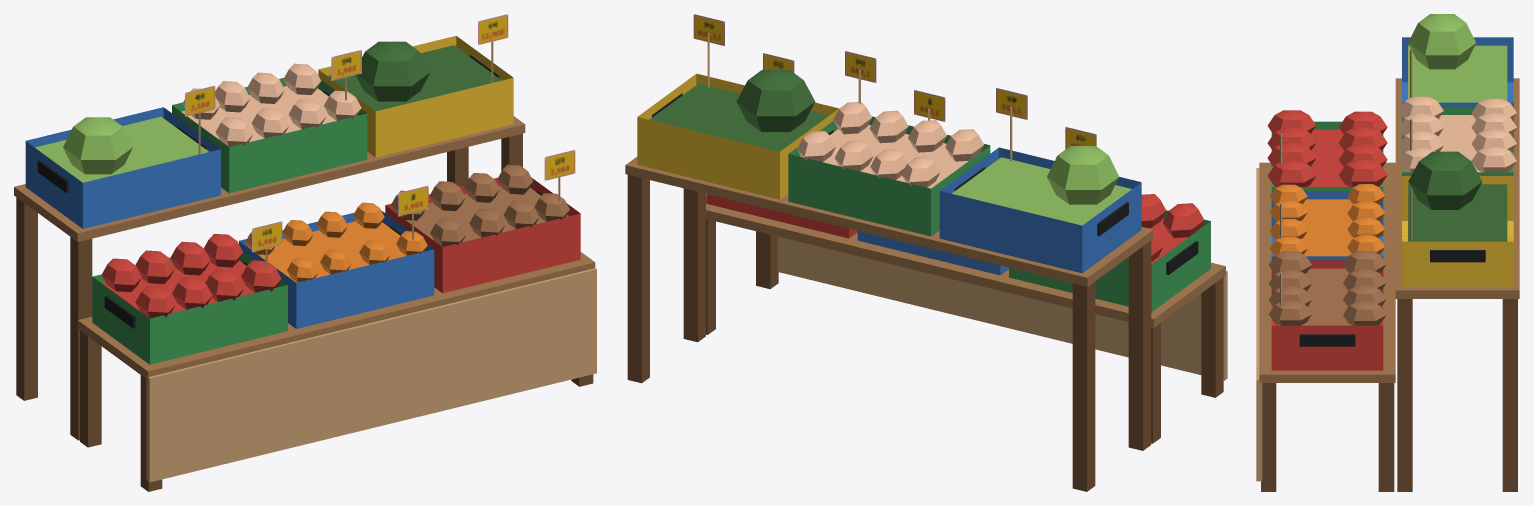
Rendered from SC_Shop_Produce_Stand.gltf.
3 renders of one model, left to right at view 1: azimuth 30°, elevation 25°; view 2: azimuth 150°, elevation 25°; view 3: azimuth 270°, elevation 25°, orthographic. The views are drawn at different scales.
Parts seen in each view (by area): view 1: SC_Shop_Produce_Stand; view 2: SC_Shop_Produce_Stand; view 3: SC_Shop_Produce_Stand.
Part boxes in pixels (box(x1,y1,x2,y2)): SC_Shop_Produce_Stand: box(14, 14, 596, 491); SC_Shop_Produce_Stand: box(625, 14, 1227, 491); SC_Shop_Produce_Stand: box(1256, 14, 1519, 491).
Bounding box in the file's own units: 1.62 × 1.09 × 0.85.
Materials: 2 (2 with a texture image).
